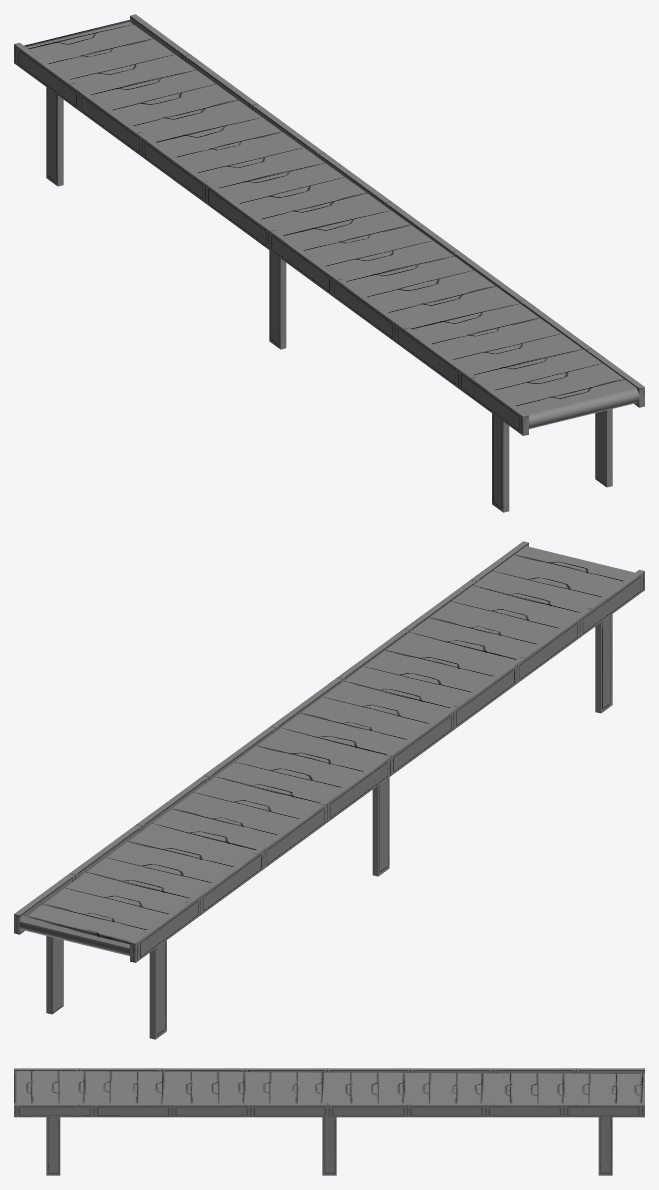
The model's file is conveyor_x8.fbx.
3 renders of one model, top to bottom at view 1: azimuth 30°, elevation 25°; view 2: azimuth 150°, elevation 25°; view 3: azimuth 270°, elevation 25°, orthographic. The views are drawn at different scales.
Visible parts, largest first — view 1: conveyor_x8; view 2: conveyor_x8; view 3: conveyor_x8.
Part boxes in pixels (left/top/right/bottom): conveyor_x8: left=14, top=14, right=644, bottom=512; conveyor_x8: left=14, top=541, right=644, bottom=1039; conveyor_x8: left=14, top=1068, right=644, bottom=1175.
Bounding box in the file's own units: 1.1 × 8 × 1.01.
